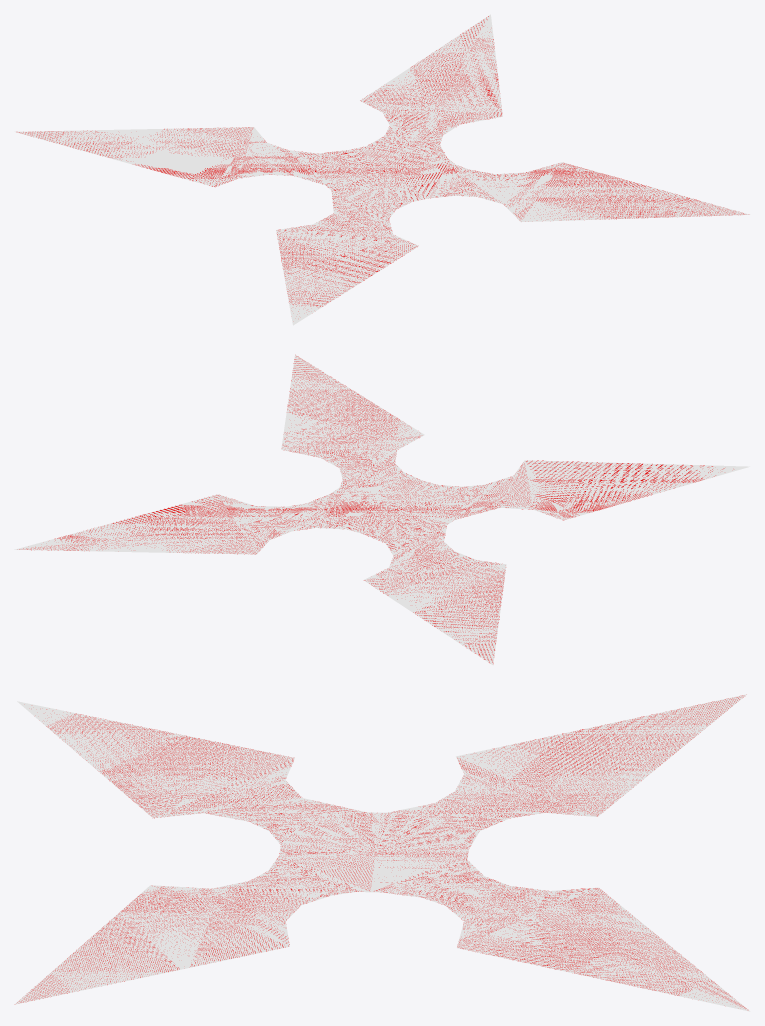
File: NinjaStar1.dae
The picture shows the model from 3 angles, top to bottom: view 1: azimuth 30°, elevation 25°; view 2: azimuth 150°, elevation 25°; view 3: azimuth 270°, elevation 25°; orthographic projection. The views are drawn at different scales.
Parts seen in each view (by area): view 1: SketchUp; view 2: SketchUp; view 3: SketchUp.
Part boxes in pixels (box(x1,y1,x2,y2)): SketchUp: box(14, 14, 750, 325); SketchUp: box(14, 354, 749, 665); SketchUp: box(14, 694, 750, 1011).
Size of the model in its own units: 77.76 by 76.23 by 7.12e-15.
